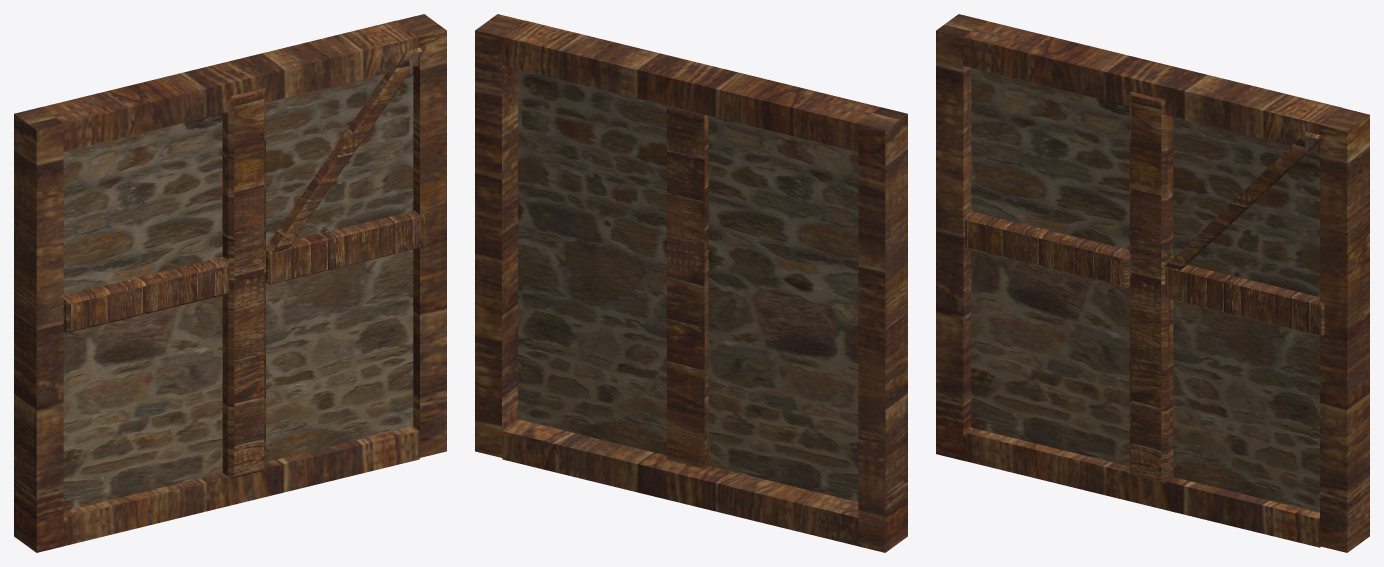
The model's file is BuildingWallTile3.fbx.
3 views of the same model, side by side, from view 1: azimuth 30°, elevation 25°; view 2: azimuth 150°, elevation 25°; view 3: azimuth 330°, elevation 25° (orthographic).
Parts seen in each view (by area): view 1: polySurface155; view 2: polySurface155; view 3: polySurface155.
Part boxes in pixels (x1=…): polySurface155: x1=14, y1=14, x2=446, y2=552; polySurface155: x1=475, y1=14, x2=907, y2=552; polySurface155: x1=936, y1=14, x2=1369, y2=552.
Bounding box in the file's own units: 3.7 × 3.65 × 0.4314.
1 material, 1 textured.
